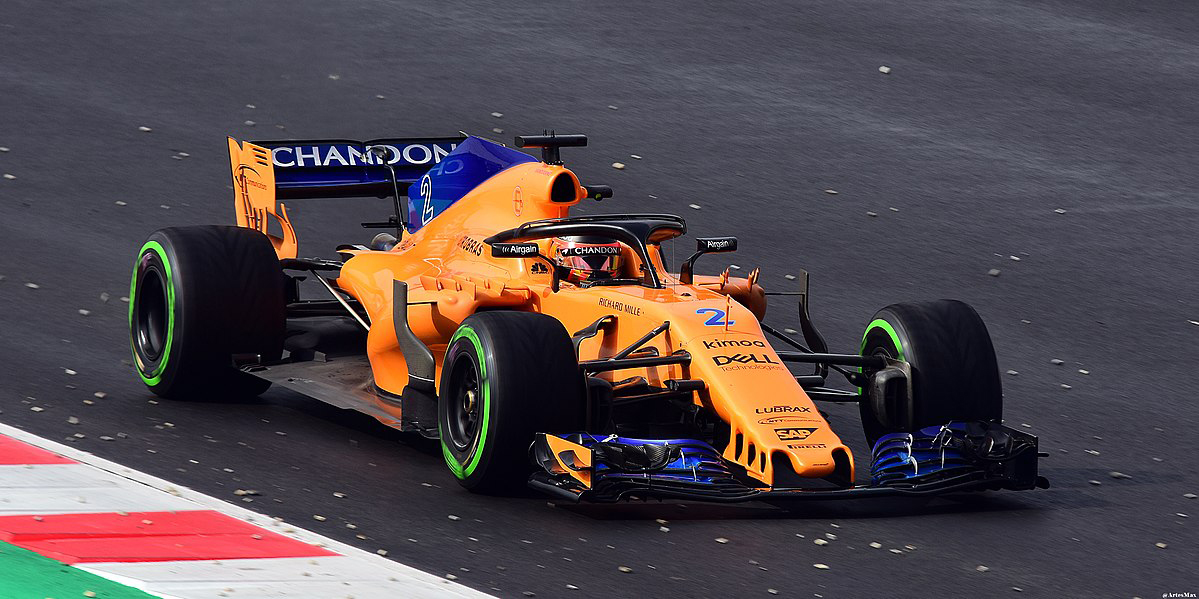F1 Car: (118, 125, 1057, 511)
